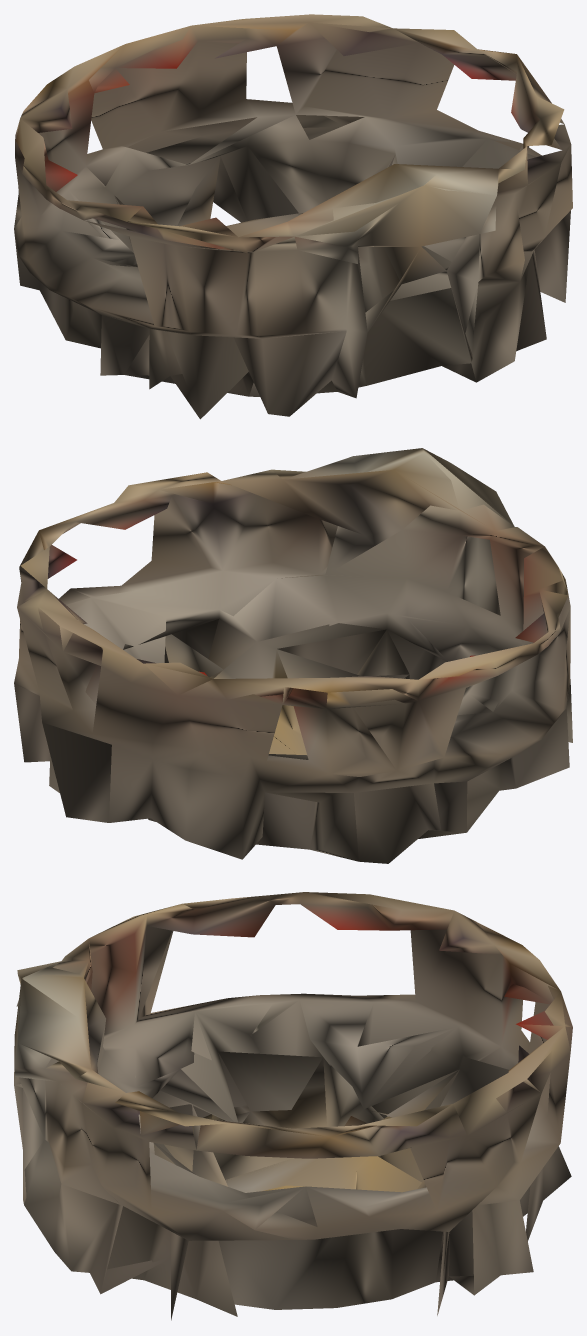
File: civic_stadium_stage4.glb
The picture shows the model from 3 angles, top to bottom: view 1: azimuth 30°, elevation 25°; view 2: azimuth 150°, elevation 25°; view 3: azimuth 270°, elevation 25°; orthographic projection. The views are drawn at different scales.
Visible parts, largest first — view 1: geometry_0; view 2: geometry_0; view 3: geometry_0.
Boxes of the visible parts, left/top/right/bottom form: geometry_0: left=14, top=14, right=572, bottom=419; geometry_0: left=14, top=448, right=572, bottom=863; geometry_0: left=14, top=892, right=572, bottom=1320.
Bounding box in the file's own units: 31.8 × 13.98 × 29.66.
